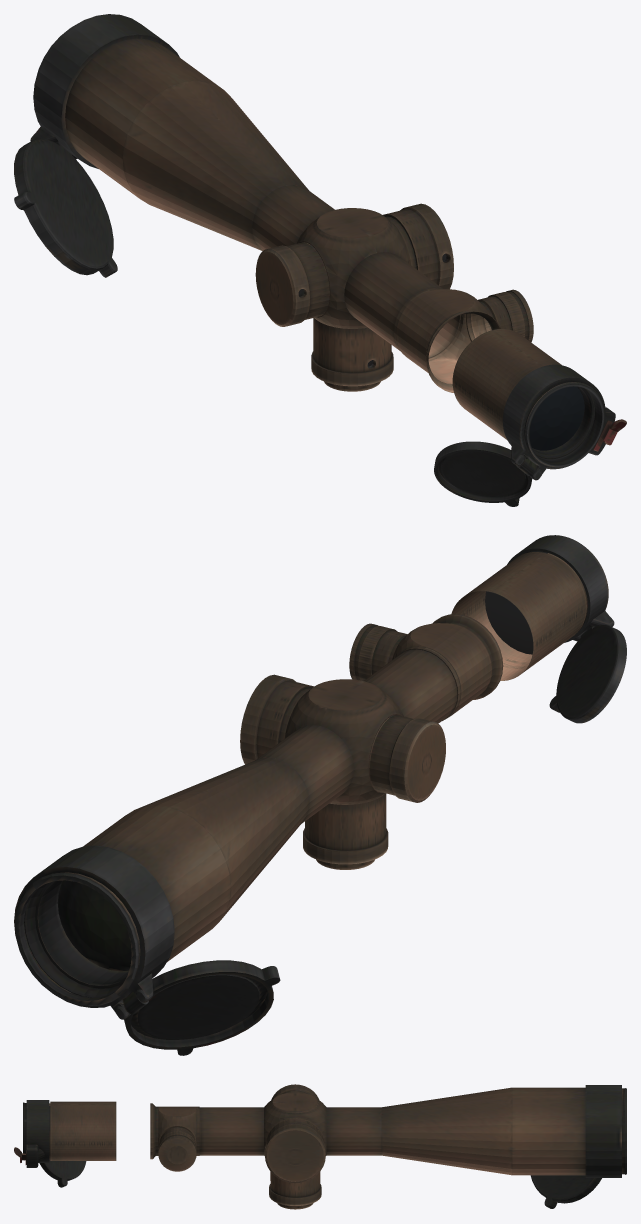
The picture shows the model from 3 angles, top to bottom: view 1: azimuth 30°, elevation 25°; view 2: azimuth 150°, elevation 25°; view 3: azimuth 270°, elevation 25°; orthographic projection. The views are drawn at different scales.
Parts seen in each view (by area): view 1: TW_62850c28da09541f43158cca_PZ_Import; view 2: TW_62850c28da09541f43158cca_PZ_Import; view 3: TW_62850c28da09541f43158cca_PZ_Import.
Part boxes in pixels (x1=…): TW_62850c28da09541f43158cca_PZ_Import: x1=14, y1=14, x2=626, y2=506; TW_62850c28da09541f43158cca_PZ_Import: x1=14, y1=535, x2=626, y2=1055; TW_62850c28da09541f43158cca_PZ_Import: x1=14, y1=1084, x2=626, y2=1209.
Size of the model in its own units: 0.0648 by 0.2493 by 0.0601.
Materials: 1 (1 with a texture image).
